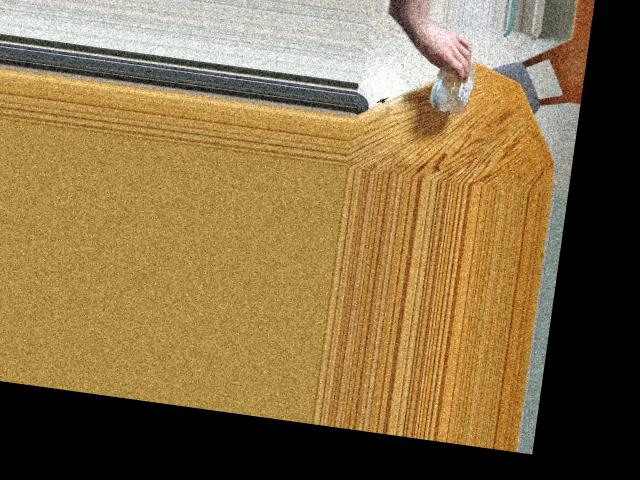cheese: (425, 44, 480, 104)
